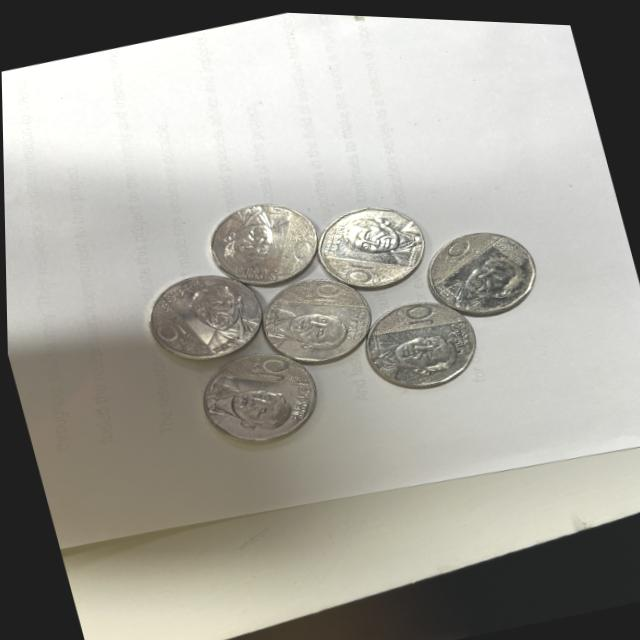10_New_Front: (425, 235, 477, 278), (272, 223, 321, 266), (290, 273, 347, 309), (383, 296, 433, 330), (238, 353, 282, 386), (341, 253, 383, 285)
